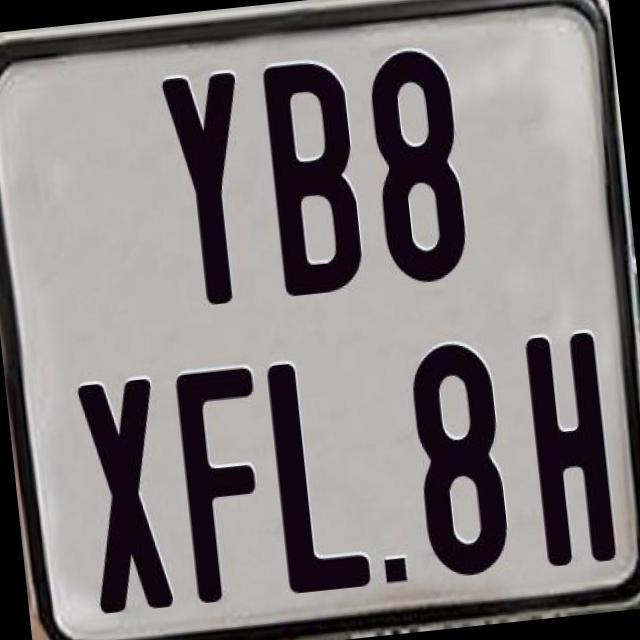8: (366, 42, 478, 292), (408, 339, 516, 588)
B: (256, 58, 362, 298)
F: (172, 366, 276, 608)
H: (521, 327, 616, 568)
L: (264, 352, 376, 594)
X: (72, 378, 174, 618)
Y: (160, 71, 260, 317)
